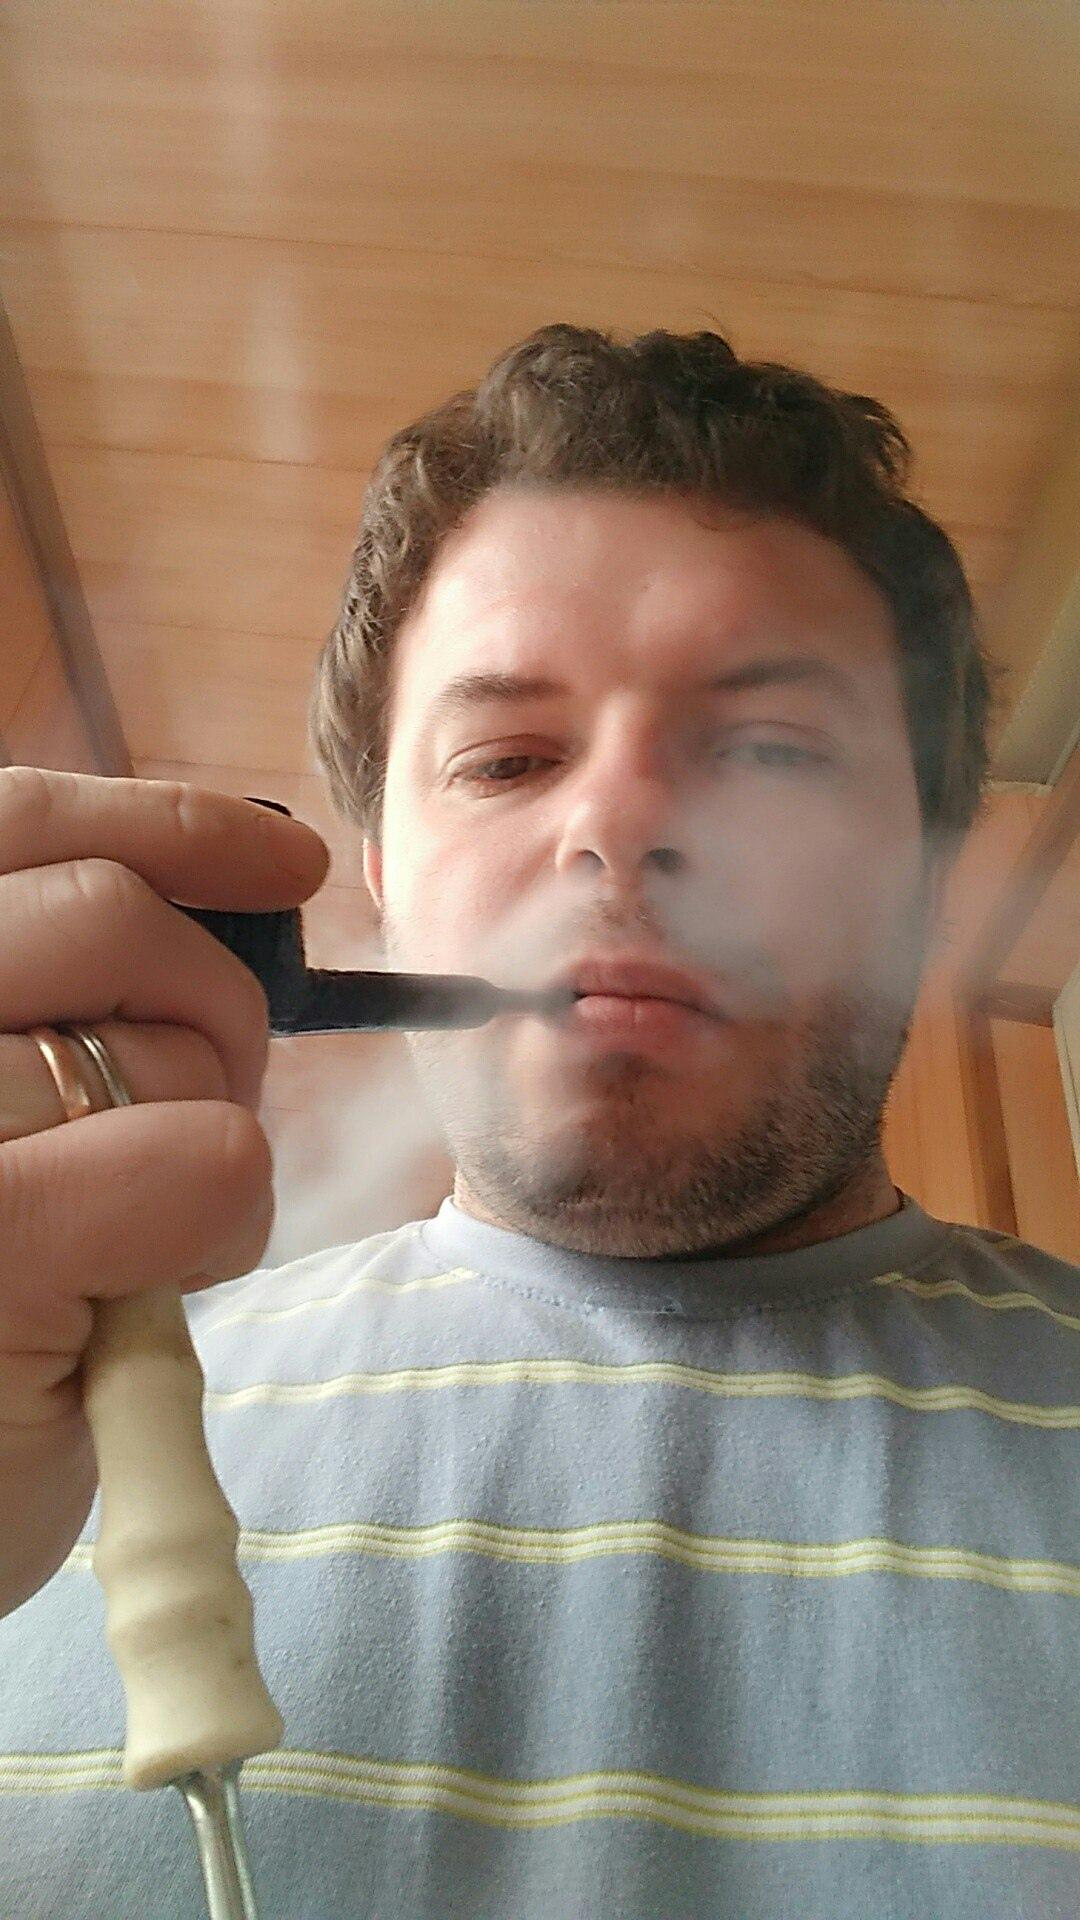trubka: (173, 905, 579, 1035)
